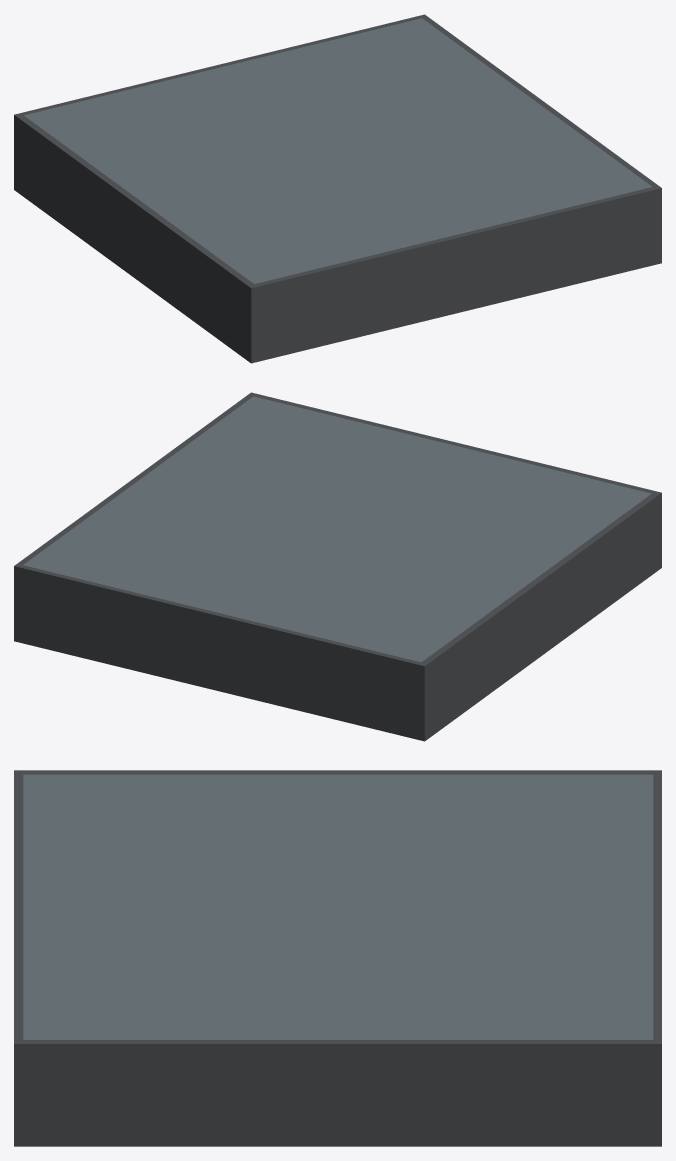
Rendered from g_t_GarageFloor.fbx.
3 views of the same model, one above another, from view 1: azimuth 30°, elevation 25°; view 2: azimuth 150°, elevation 25°; view 3: azimuth 270°, elevation 25° (orthographic). The views are drawn at different scales.
Parts seen in each view (by area): view 1: g_t_GarageFloor; view 2: g_t_GarageFloor; view 3: g_t_GarageFloor.
Part boxes in pixels (left/top/right/bottom): g_t_GarageFloor: left=14, top=14, right=661, bottom=363; g_t_GarageFloor: left=14, top=392, right=661, bottom=741; g_t_GarageFloor: left=14, top=770, right=661, bottom=1146.
Bounding box in the file's own units: 1 × 0.175 × 1.
